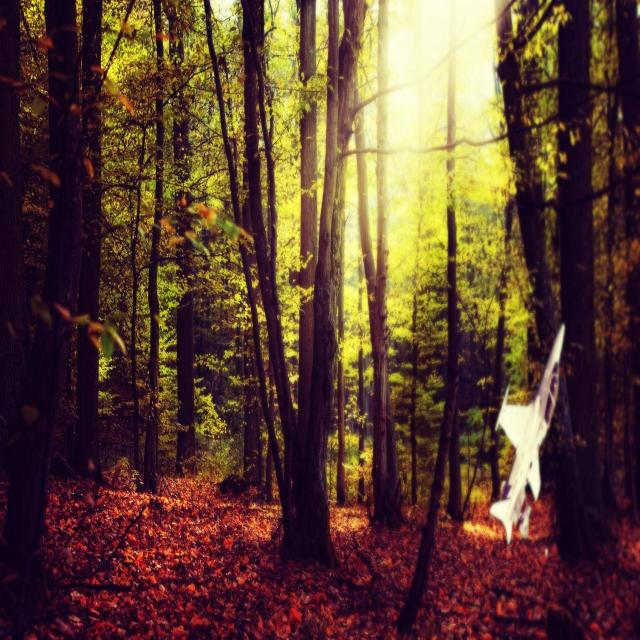airplane: (489, 322, 565, 545)
